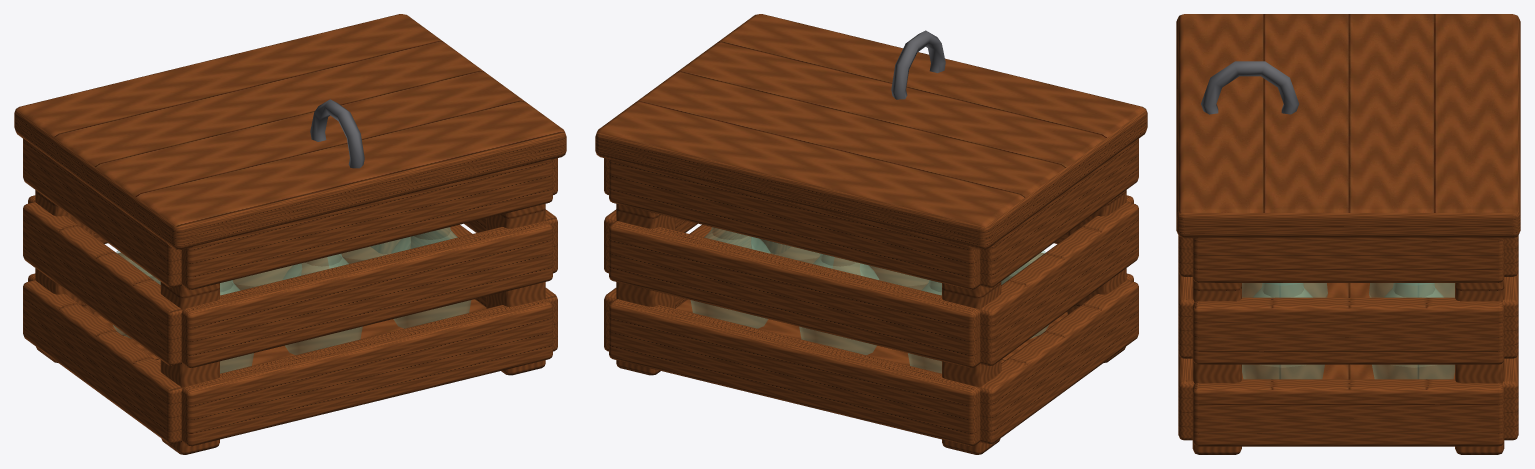
Rendered from witch-cottage-and-apothecary-bottle-crate-6b85d6ff__32478.glb.
3 renders of one model, left to right at view 1: azimuth 30°, elevation 25°; view 2: azimuth 150°, elevation 25°; view 3: azimuth 270°, elevation 25°, orthographic. The views are drawn at different scales.
Parts seen in each view (by area): view 1: bottle-crate, lid-crate/oak, lid-crate/iron; view 2: bottle-crate, lid-crate/oak, lid-crate/iron; view 3: lid-crate/oak, bottle-crate, lid-crate/iron.
Boxes of the visible parts, x1,y1,x2,y2 form: bottle-crate: (23, 138, 557, 454); lid-crate/oak: (14, 14, 566, 249); lid-crate/iron: (310, 99, 364, 168); bottle-crate: (604, 138, 1138, 454); lid-crate/oak: (595, 14, 1147, 249); lid-crate/iron: (891, 30, 945, 99); lid-crate/oak: (1176, 14, 1520, 238); bottle-crate: (1178, 235, 1518, 454); lid-crate/iron: (1201, 61, 1299, 114).
Size of the model in its own units: 0.58 by 0.407 by 0.42.
Materials: 3 (1 with a texture image).
